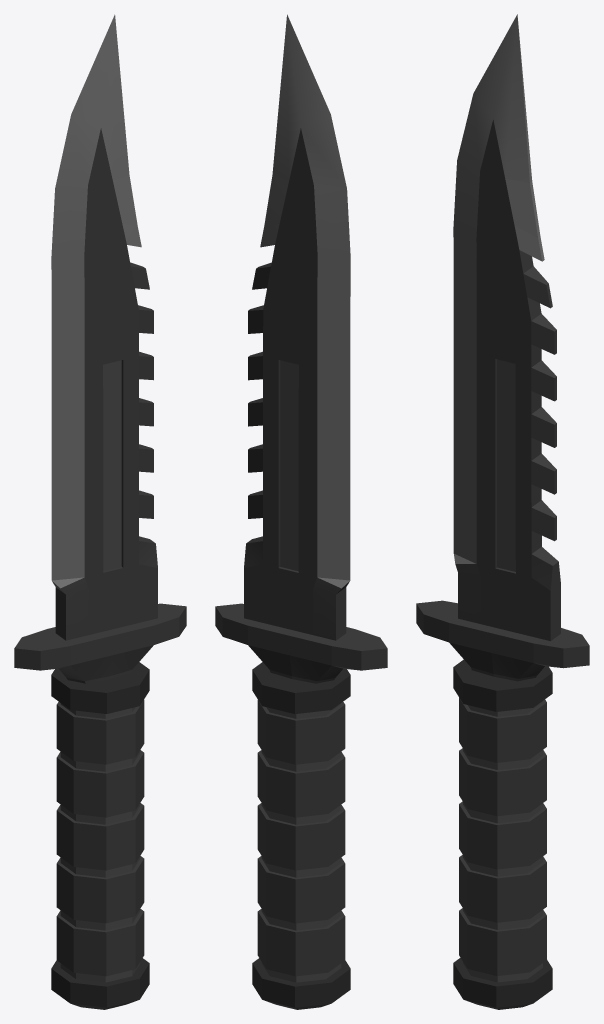
File: Knife.fbx
3 renders of one model, left to right at view 1: azimuth 30°, elevation 25°; view 2: azimuth 150°, elevation 25°; view 3: azimuth 330°, elevation 25°, orthographic.
Parts seen in each view (by area): view 1: Knife_01; view 2: Knife_01; view 3: Knife_01.
Boxes of the visible parts, left/top/right/bottom form: Knife_01: left=14, top=14, right=186, bottom=1009; Knife_01: left=215, top=14, right=387, bottom=1009; Knife_01: left=416, top=14, right=589, bottom=1009.
Size of the model in its own units: 7.18 by 39.01 by 3.31.
Materials: 1 (1 with a texture image).
